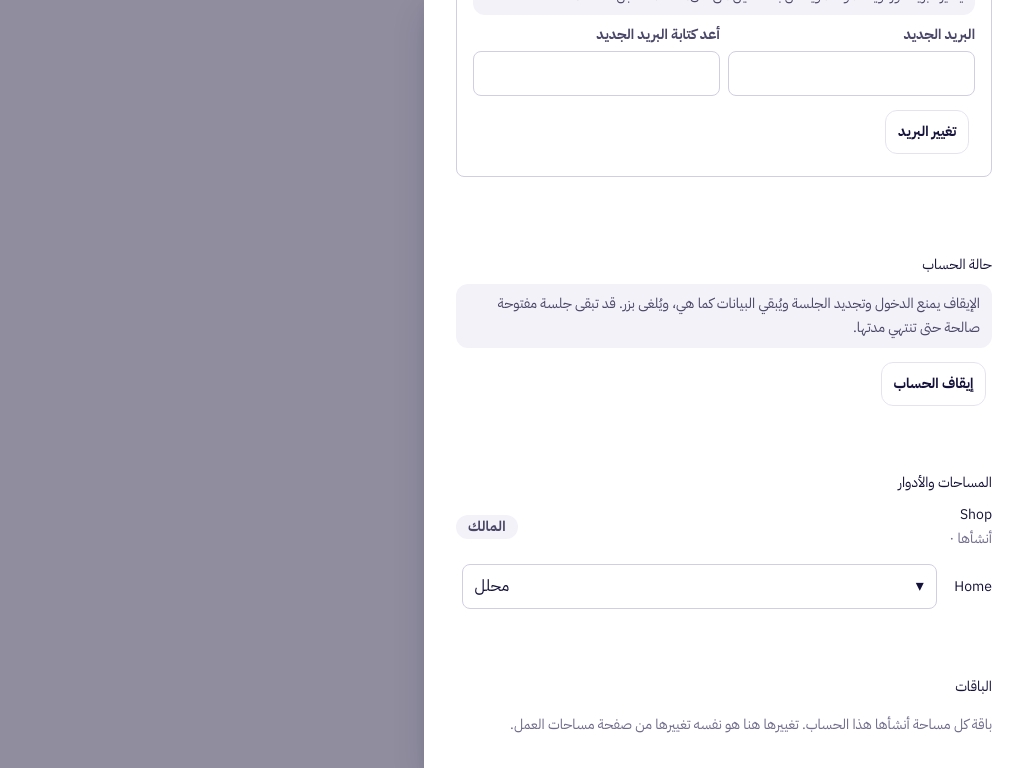
Test case: AccountFile › suspends only after a second, confirming press
This screenshot has width=1024, height=768.
(page scrolled)
Click the button with test id "admin-account-suspend": (934, 384) [881,362,986,406]
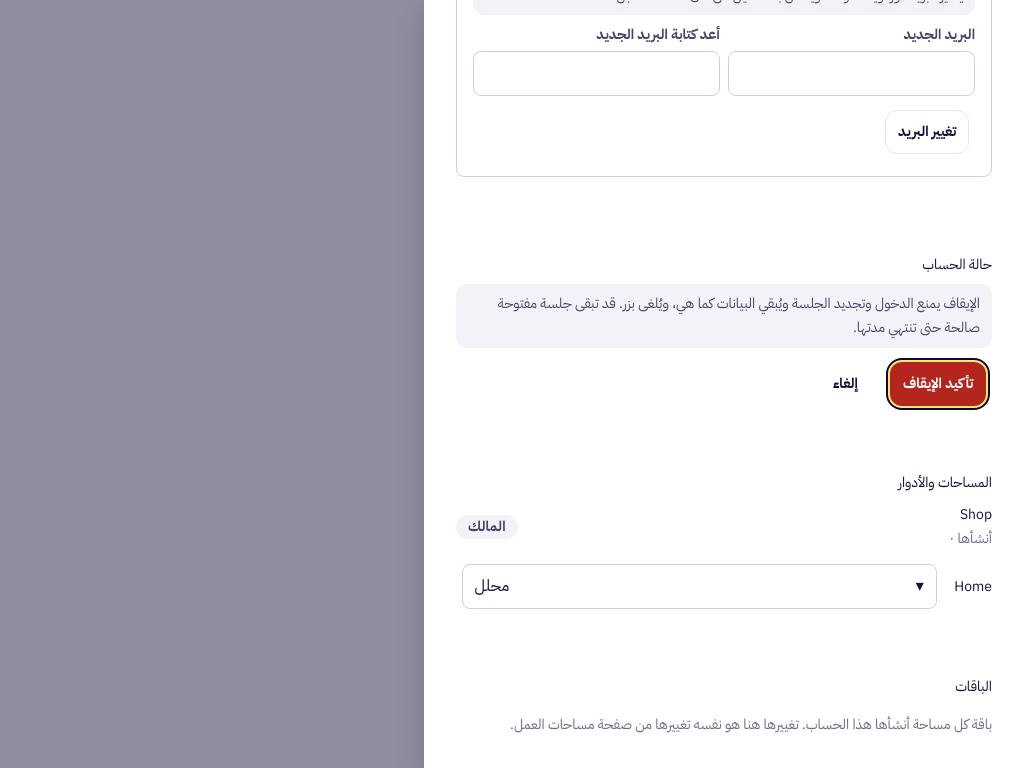
Click the button with test id "admin-account-suspend-confirm": (938, 384) [890,362,986,406]
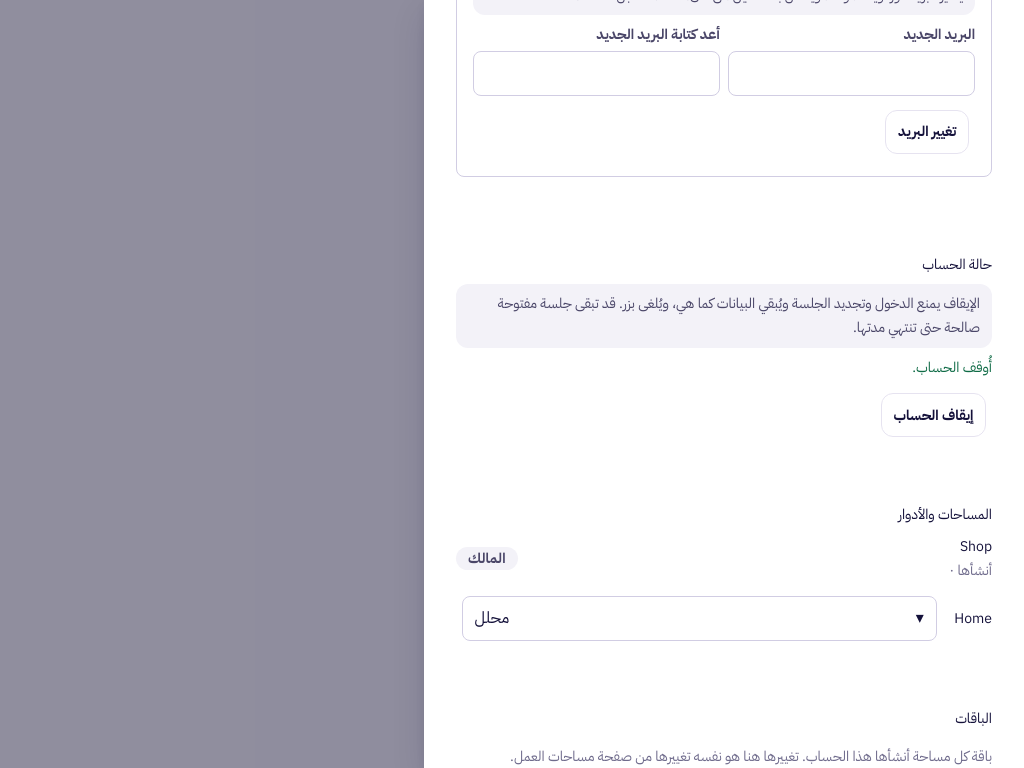
Check: the message reads "أُوقف الحساب.", box [912,357,992,378]
